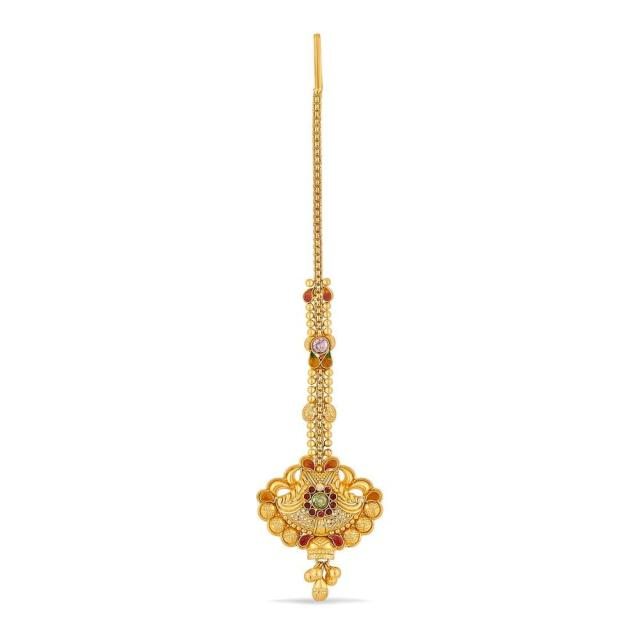missing gem: (312, 493, 328, 510), (315, 483, 323, 491)
